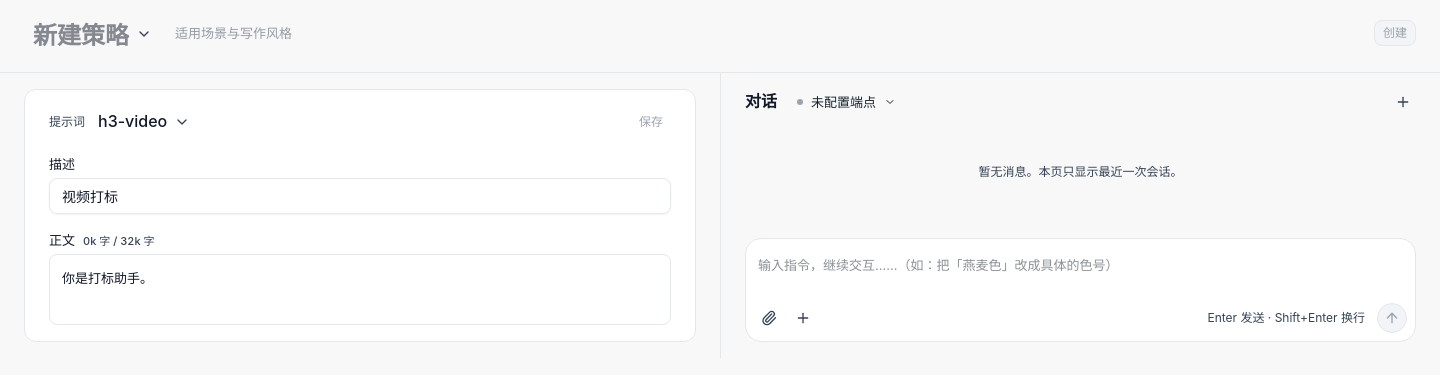
Test case: PromptWorkbench › 提示词草稿锁定策略切换，保存后应用完整组合
Check: the field named "名称" holds "h3-video", box [93,106,196,138]
Replace the text in the field labelled "描述" with "新描述" at (360, 196), box [49,178,671,214]
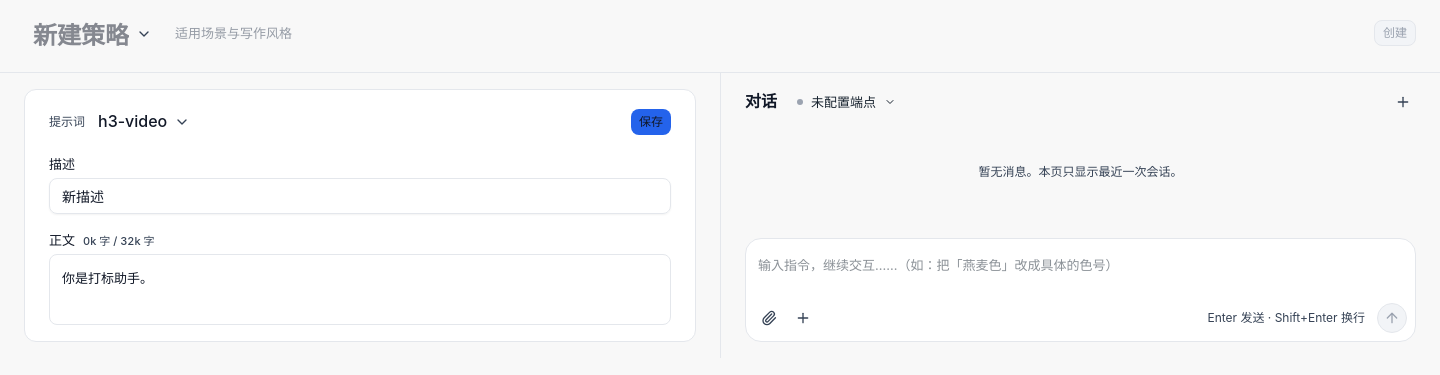
Check: the button named "切换提示词" is enabled, box [170,110,194,134]
Click the button "保存".
click(651, 122)  # box [631,109,671,135]
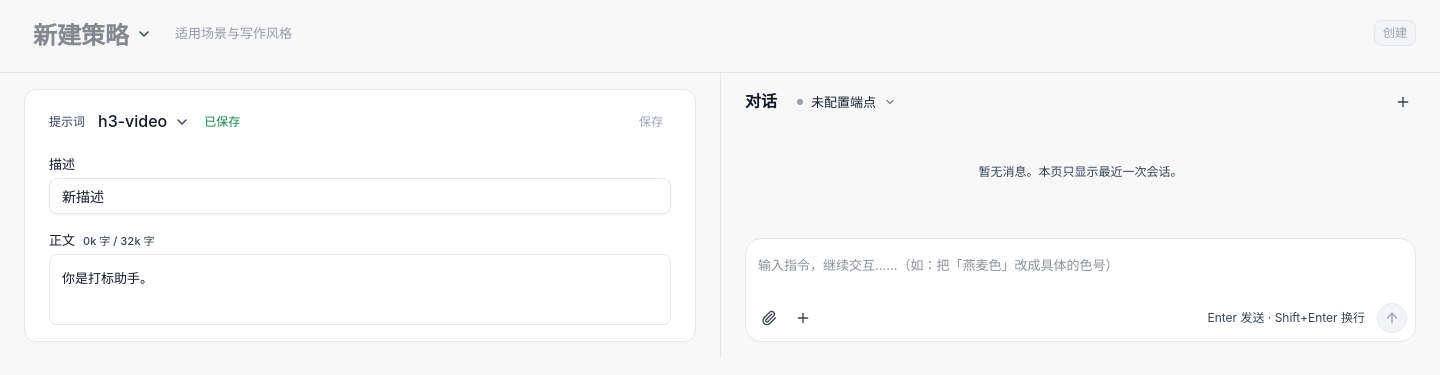
Click the button named "切换策略".
click(144, 34)  # box [132,22,156,46]
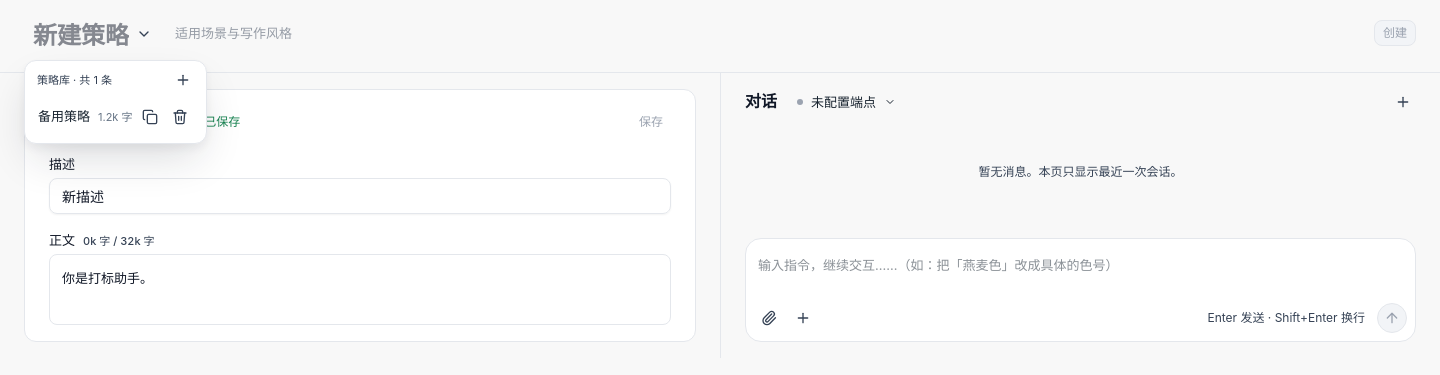
Click the menu item "备用策略 1.2k 字".
click(115, 117)  # box [38,104,192,130]
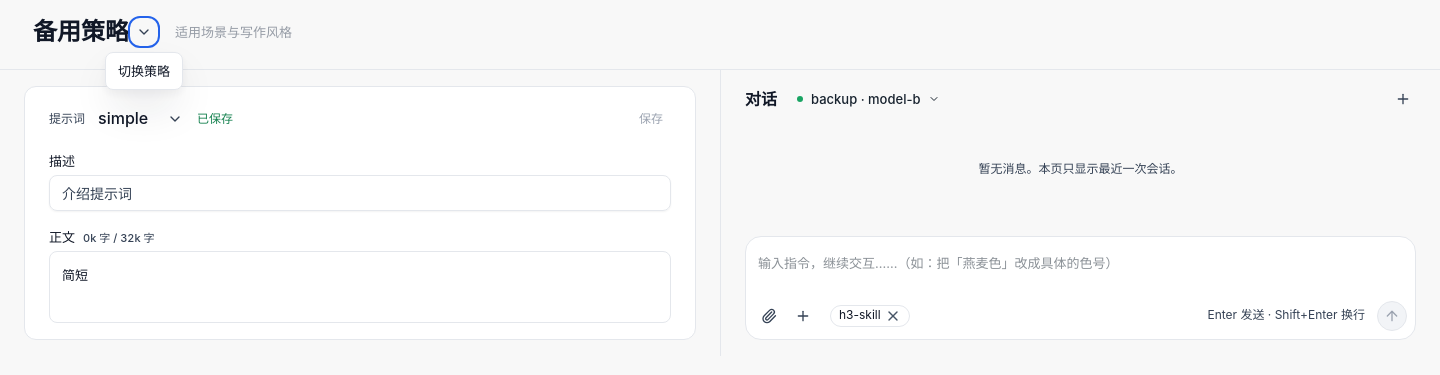
Check: the field named "名称" holds "simple", box [93,103,189,135]
Check: the text "backup · model-b" is shown, box [811,89,920,109]
Check: the button named "移除 Skill h3-skill" is shown, box [885,308,901,324]
